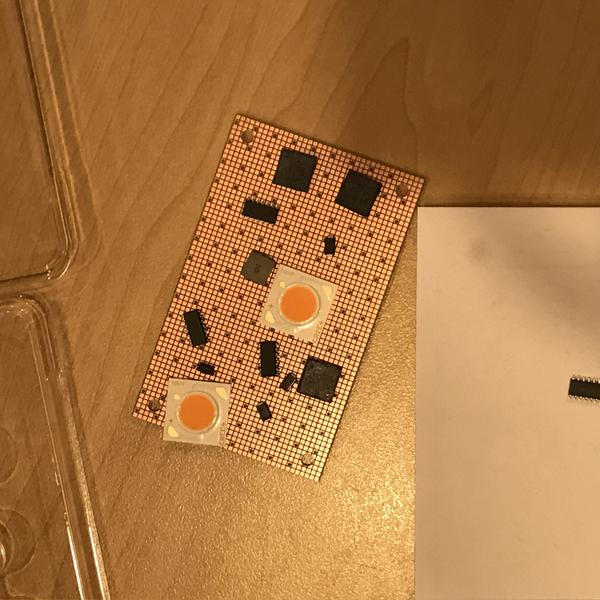board: (131, 111, 426, 485)
